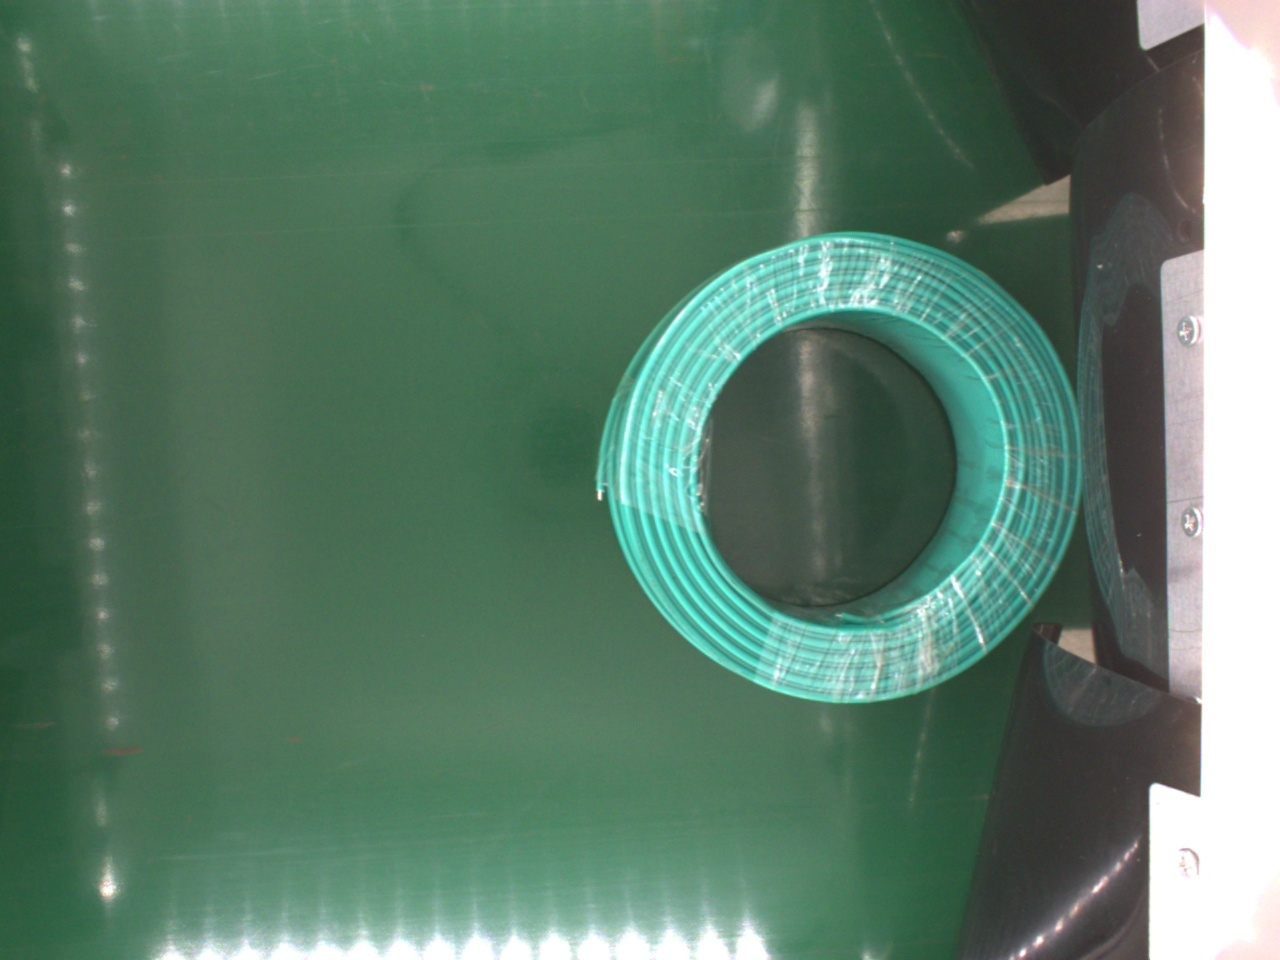green: (593, 231, 1086, 708)
